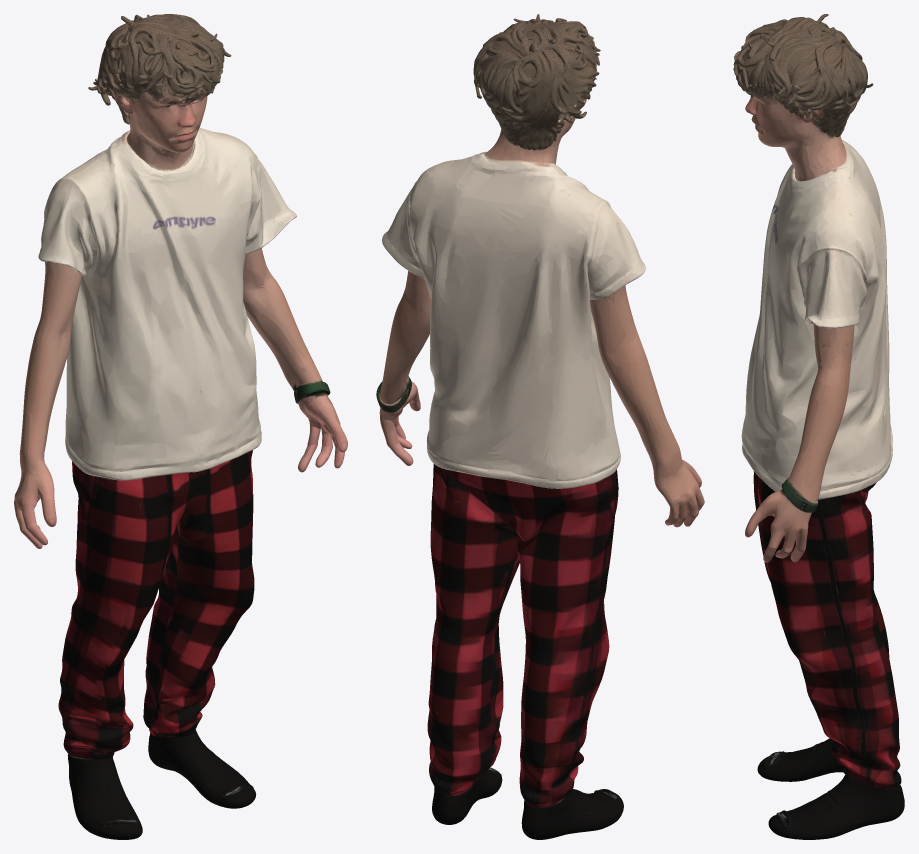
The model's file is andrew.glb.
3 renders of one model, left to right at view 1: azimuth 30°, elevation 25°; view 2: azimuth 150°, elevation 25°; view 3: azimuth 270°, elevation 25°, orthographic. The views are drawn at different scales.
Visible parts, largest first — view 1: output_unwrapped; view 2: output_unwrapped; view 3: output_unwrapped.
Part boxes in pixels (x1,y1,x2,y2): output_unwrapped: (14, 14, 347, 839); output_unwrapped: (376, 14, 704, 839); output_unwrapped: (733, 14, 904, 839).
Size of the model in its own units: 0.8035 by 1.9 by 0.3829.
Materials: 1 (1 with a texture image).
